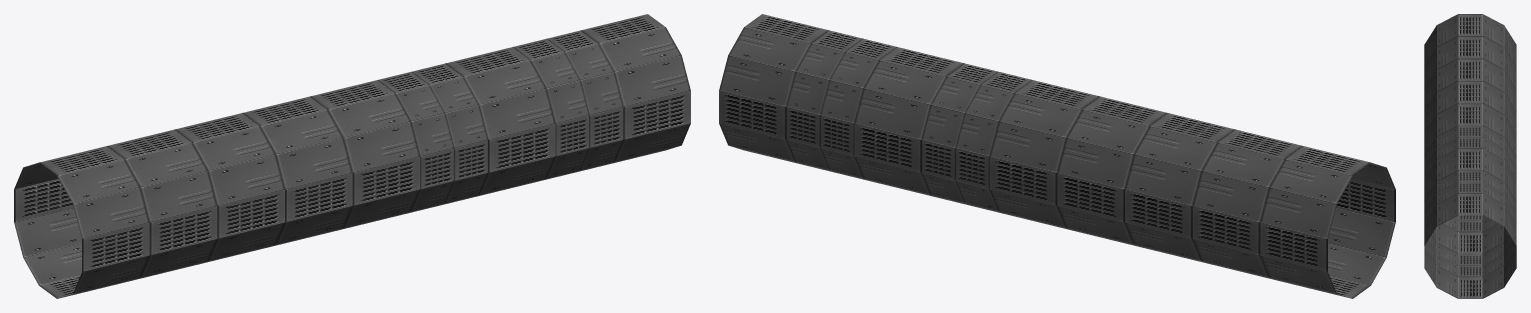
Rendered from Tunnel.fbx.
3 renders of one model, left to right at view 1: azimuth 30°, elevation 25°; view 2: azimuth 150°, elevation 25°; view 3: azimuth 270°, elevation 25°, orthographic. The views are drawn at different scales.
Parts seen in each view (by area): view 1: TunnelMesh; view 2: TunnelMesh; view 3: TunnelMesh.
Boxes of the visible parts, box(x1,y1,x2,y2) form: TunnelMesh: box(14, 14, 690, 298); TunnelMesh: box(719, 14, 1395, 298); TunnelMesh: box(1424, 14, 1516, 298).
Size of the model in its own units: 2000 by 386 by 386.
Materials: 1 (1 with a texture image).
